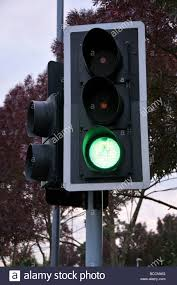green: (61, 21, 153, 196), (74, 28, 132, 179), (83, 35, 124, 170)
